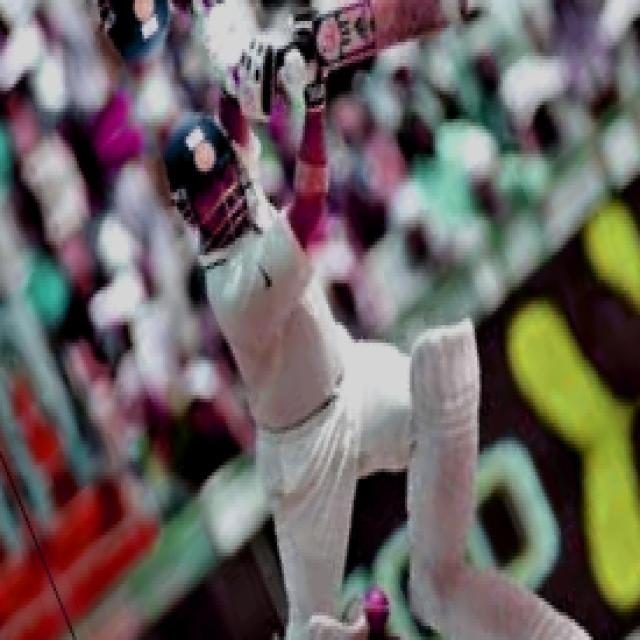toe: (405, 0, 449, 28)
